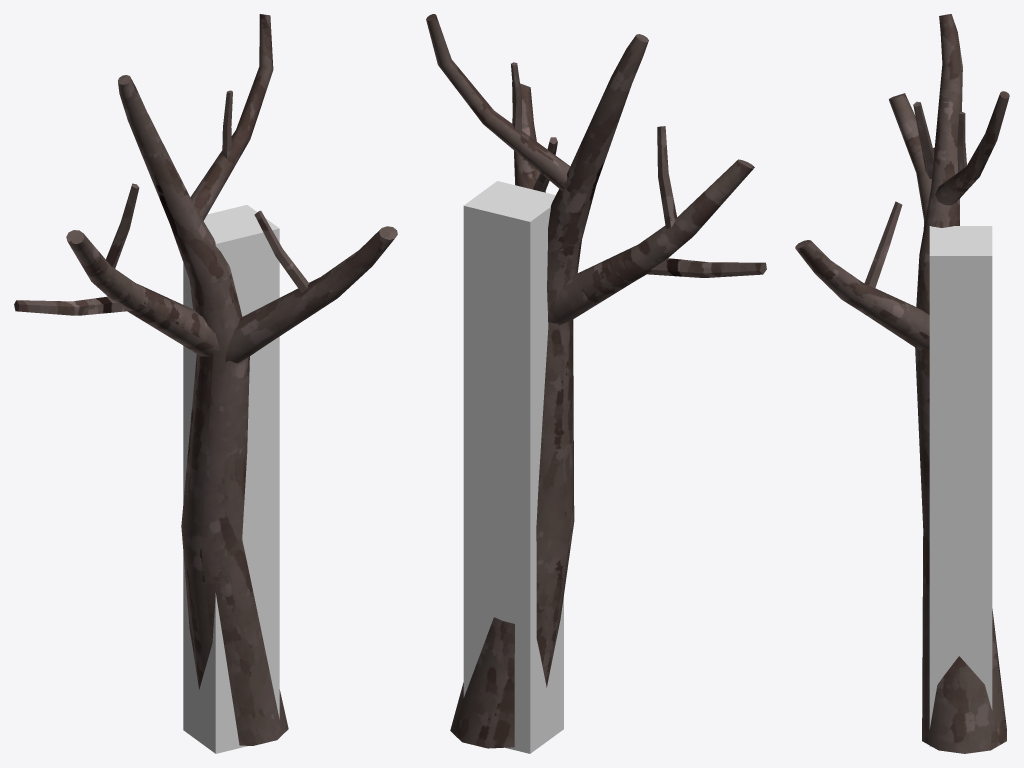
File: tree_dead_2.glb
3 renders of one model, left to right at view 1: azimuth 30°, elevation 25°; view 2: azimuth 150°, elevation 25°; view 3: azimuth 270°, elevation 25°, orthographic. The views are drawn at different scales.
Parts seen in each view (by area): view 1: DeadTree_1, Cube; view 2: Cube, DeadTree_1; view 3: Cube, DeadTree_1.
Part boxes in pixels (x1,y1,x2,y2): DeadTree_1: [14, 14, 397, 745]; Cube: [183, 205, 279, 753]; Cube: [463, 181, 563, 753]; DeadTree_1: [426, 14, 766, 748]; Cube: [929, 226, 992, 746]; DeadTree_1: [795, 14, 1009, 753].
Size of the model in its own units: 2.44 by 5.19 by 1.52.
1 material, 1 textured.
